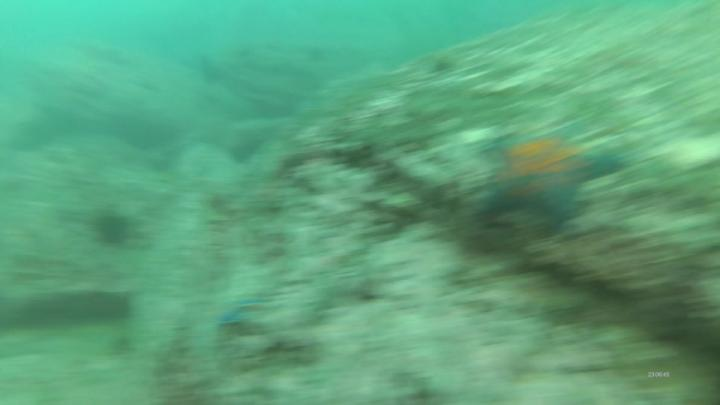starfish: (473, 115, 627, 233)
